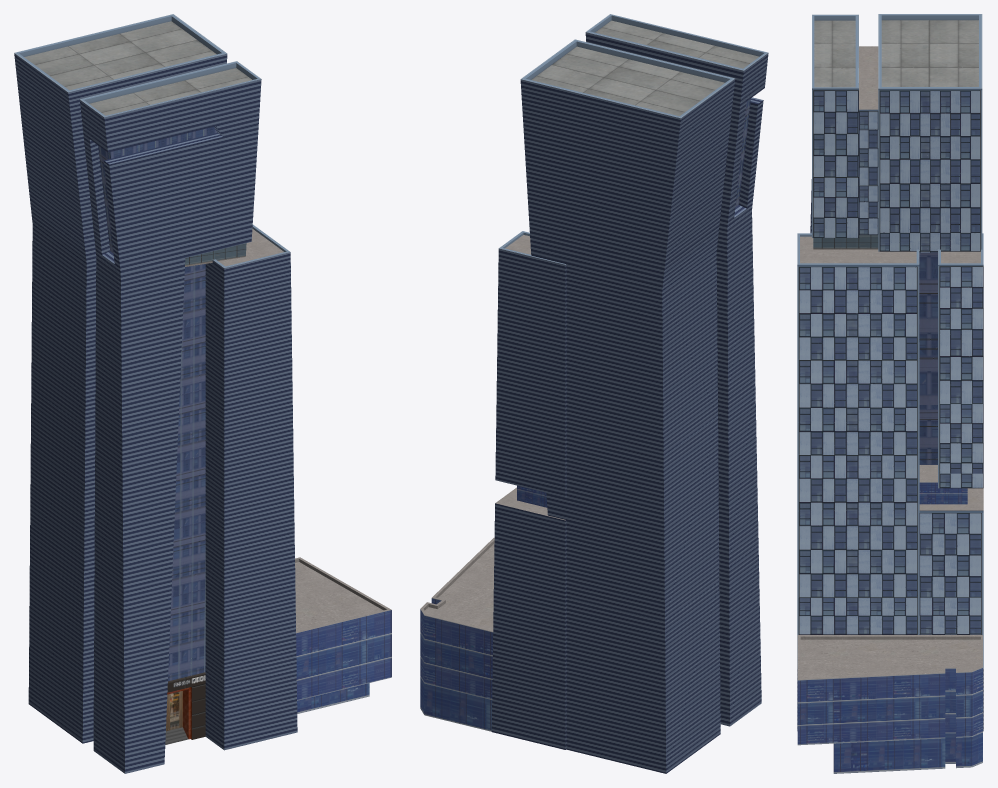
File: store_022.FBX
The picture shows the model from 3 angles, left to right: view 1: azimuth 30°, elevation 25°; view 2: azimuth 150°, elevation 25°; view 3: azimuth 270°, elevation 25°; orthographic projection. The views are drawn at different scales.
Parts seen in each view (by area): view 1: store_022; view 2: store_022; view 3: store_022.
Part boxes in pixels (x1,y1,x2,y2): store_022: (14,14,391,773); store_022: (420,14,768,773); store_022: (797,14,983,773).
Size of the model in its own units: 4733 by 10513 by 2820.
1 material, 1 textured.
